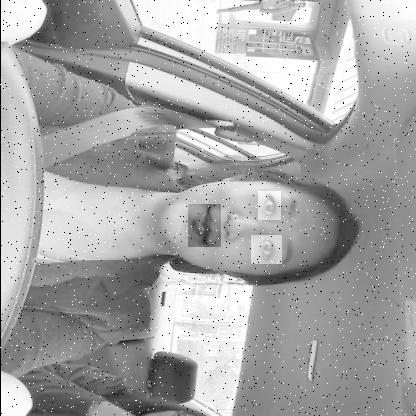seatbelt: (0, 109, 361, 301)
